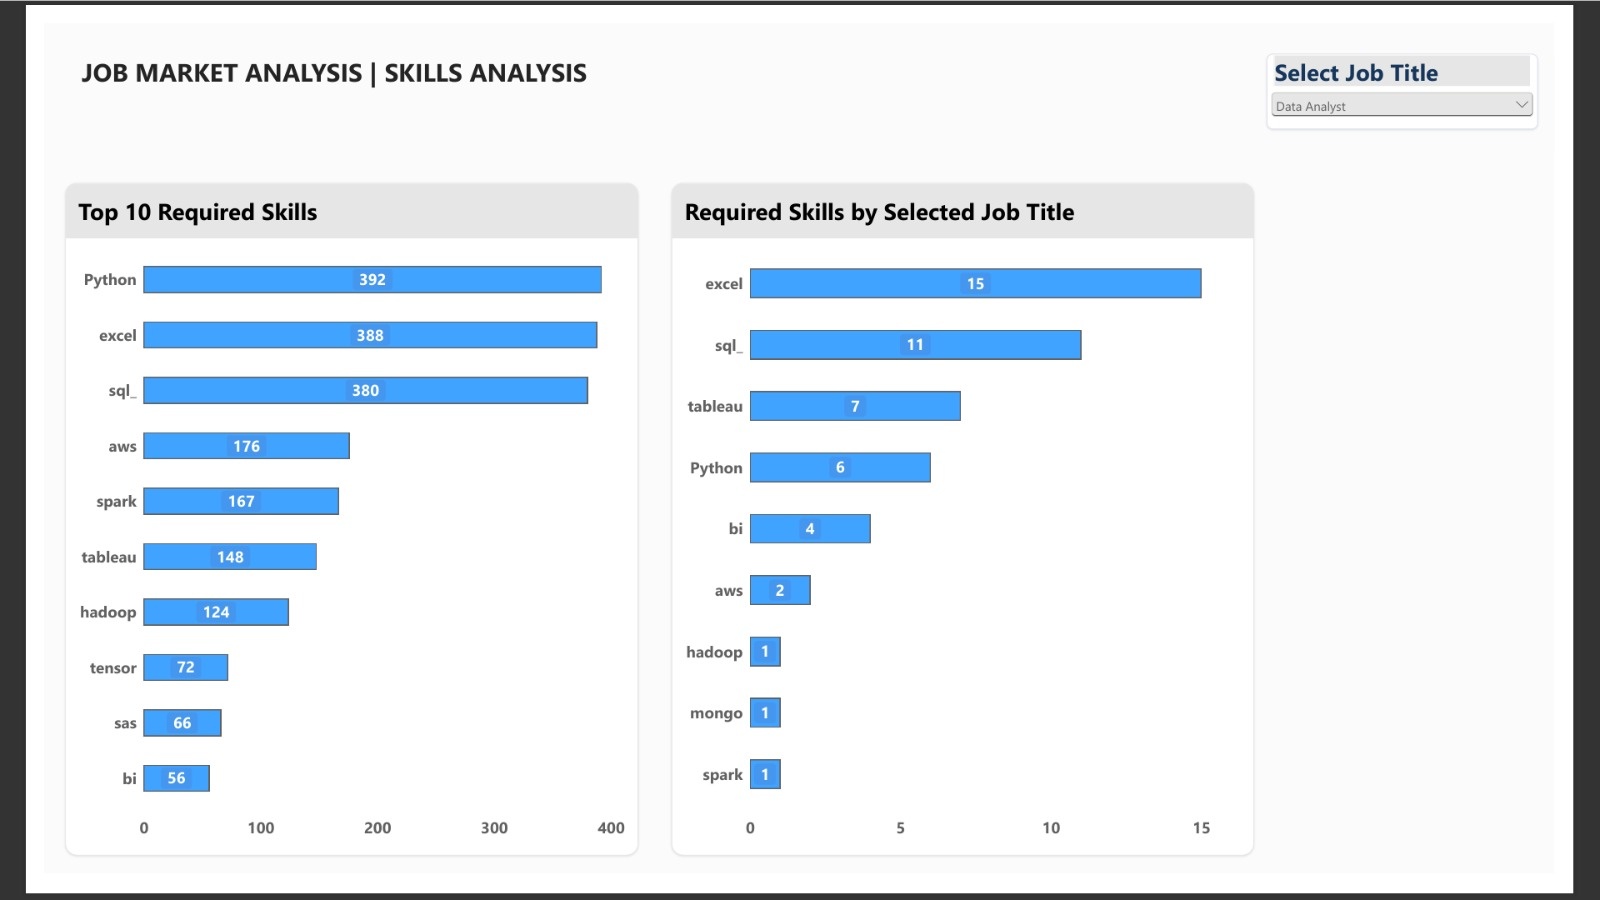

Layout of this report page (visuals, bound fields, positions):
{"tool":"powerbi","page":{"name":"Market & Skills Analysis","canvas":[1920,1080],"ordinal":1},"visuals":[{"type":"clusteredBarChart","title":"Top 10 Required Skills","fields":{"Category":["Job_Title_Skills.Skill"],"Y":["Sum(Job_Title_Skills.Value)"]},"box":[25.8,201.6,729.1,855.7],"z":0},{"type":"slicer","fields":{"Values":["Job_Title_Skills.Job_Title"]},"box":[1554.4,37.5,344.6,96.1],"z":1000},{"type":"clusteredBarChart","title":"Required Skills by Selected Job Title","fields":{"Category":["Job_Title_Skills.Skill"],"Y":["Sum(Job_Title_Skills.Value)"]},"box":[797.1,201.6,740.9,855.7],"z":2000},{"type":"textbox","box":[46.9,37.5,682.2,70.3],"z":3000}]}

Visuals, with their boxes in screenshot pixels (x1, y1, x2, y2), scaled from the page's 1920x1080 canvas onto the 1600x900 screenshot:
"Top 10 Required Skills" clusteredBarChart: bbox=[22, 168, 629, 881]
slicer - Job_Title_Skills.Job_Title: bbox=[1295, 31, 1582, 111]
"Required Skills by Selected Job Title" clusteredBarChart: bbox=[664, 168, 1282, 881]
textbox: bbox=[39, 31, 608, 90]
